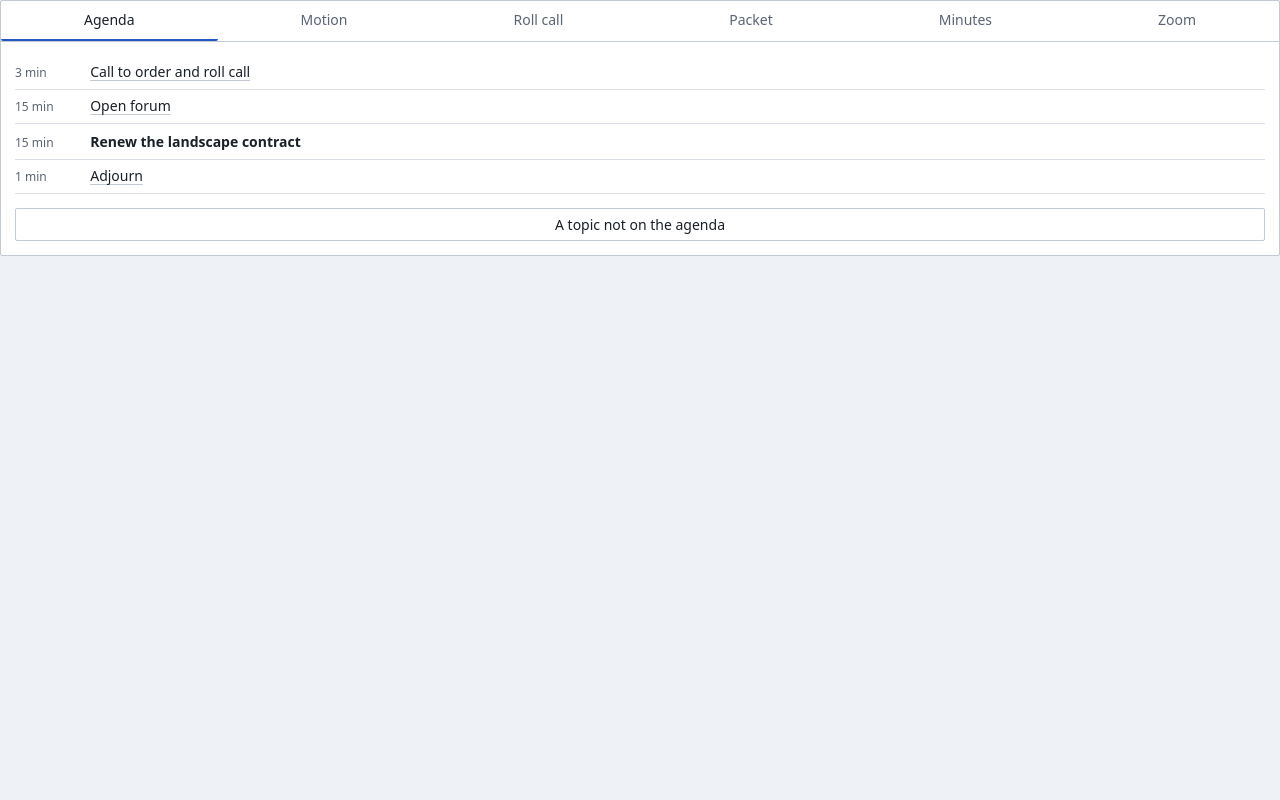
HostPanel › drafts the minutes from the log for the secretary, and shows roster not synced in the Zoom tab
Step 1. Click the tab "Minutes" → (965, 21), box [856,1,1075,41]
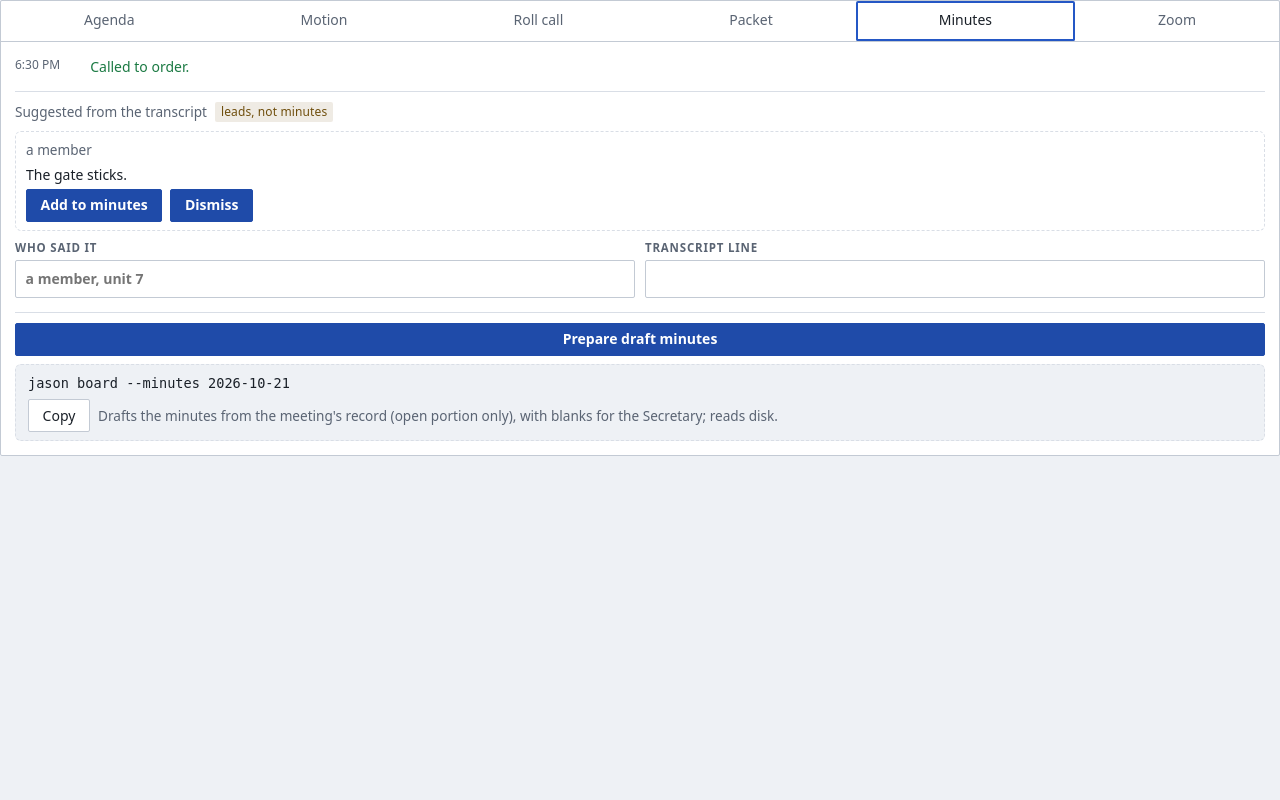
expect the text "Called to order." is shown: met, box [90,57,189,76]
expect the text "The gate sticks." is shown: met, box [26,165,127,184]
Step 2. Click the button "Prepare draft minutes" → (640, 339), box [15,323,1265,356]
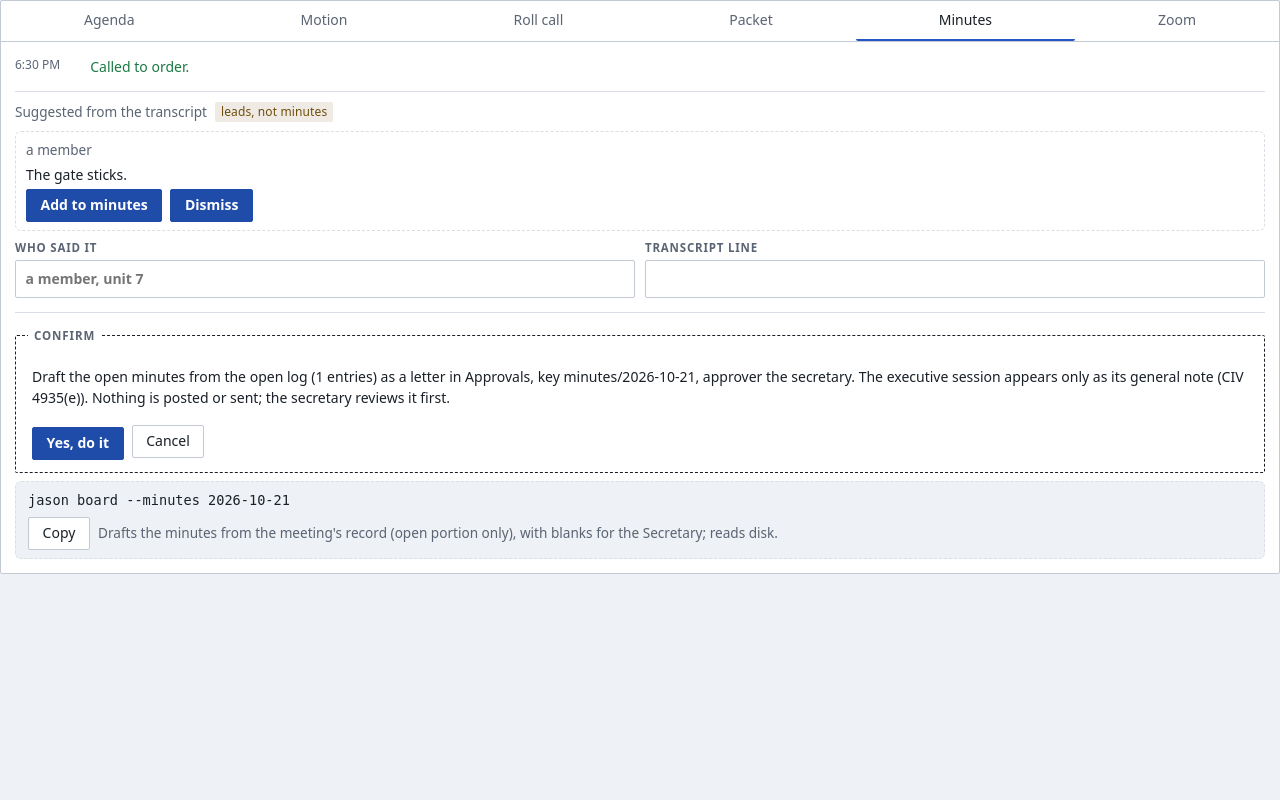
expect the element "Confirm" shows "key minutes/2026-10-21, approver the secretary": met, box [15,335,1265,473]
Step 3. Click the button "Yes, do it" → (78, 443), box [32,427,124,460]
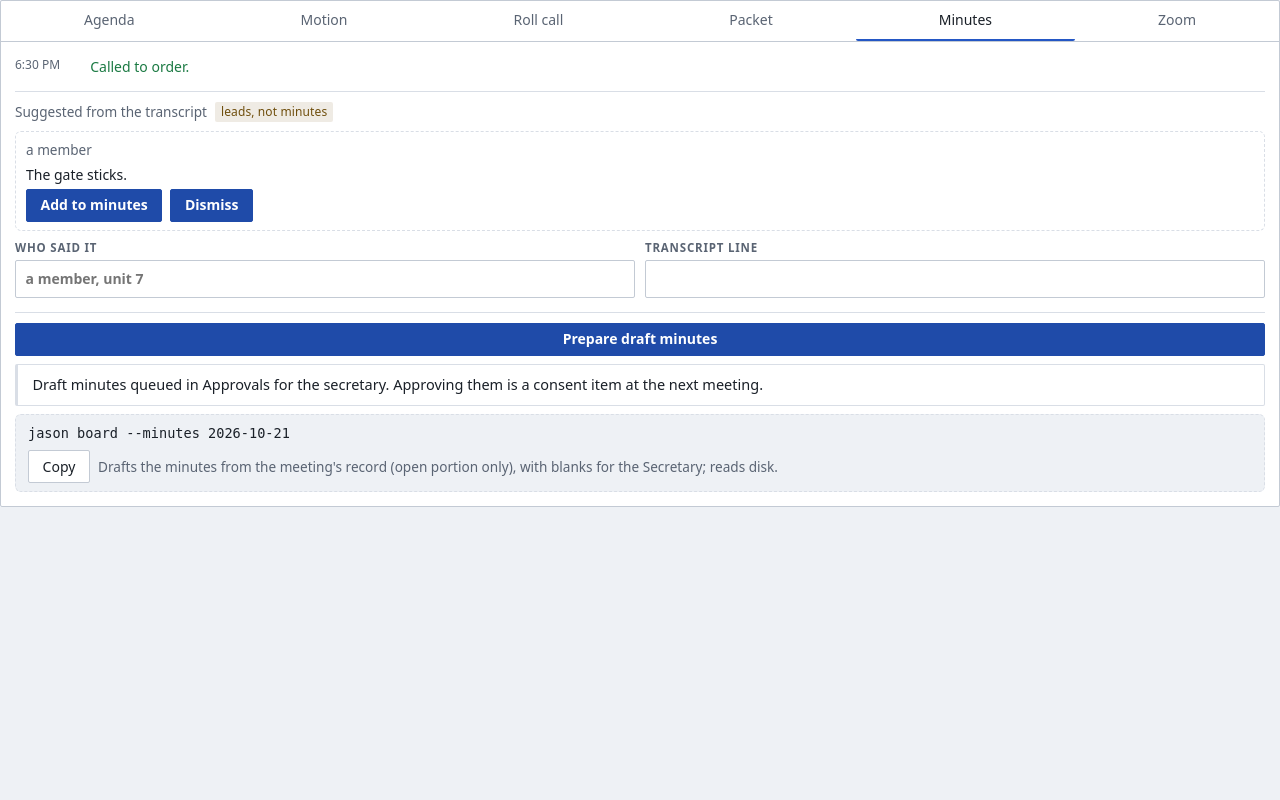
expect the text "queued in Approvals for the secretary" is shown: met, box [32,374,763,394]
Step 4. Click the tab "Zoom" → (1177, 21), box [1075,1,1279,41]
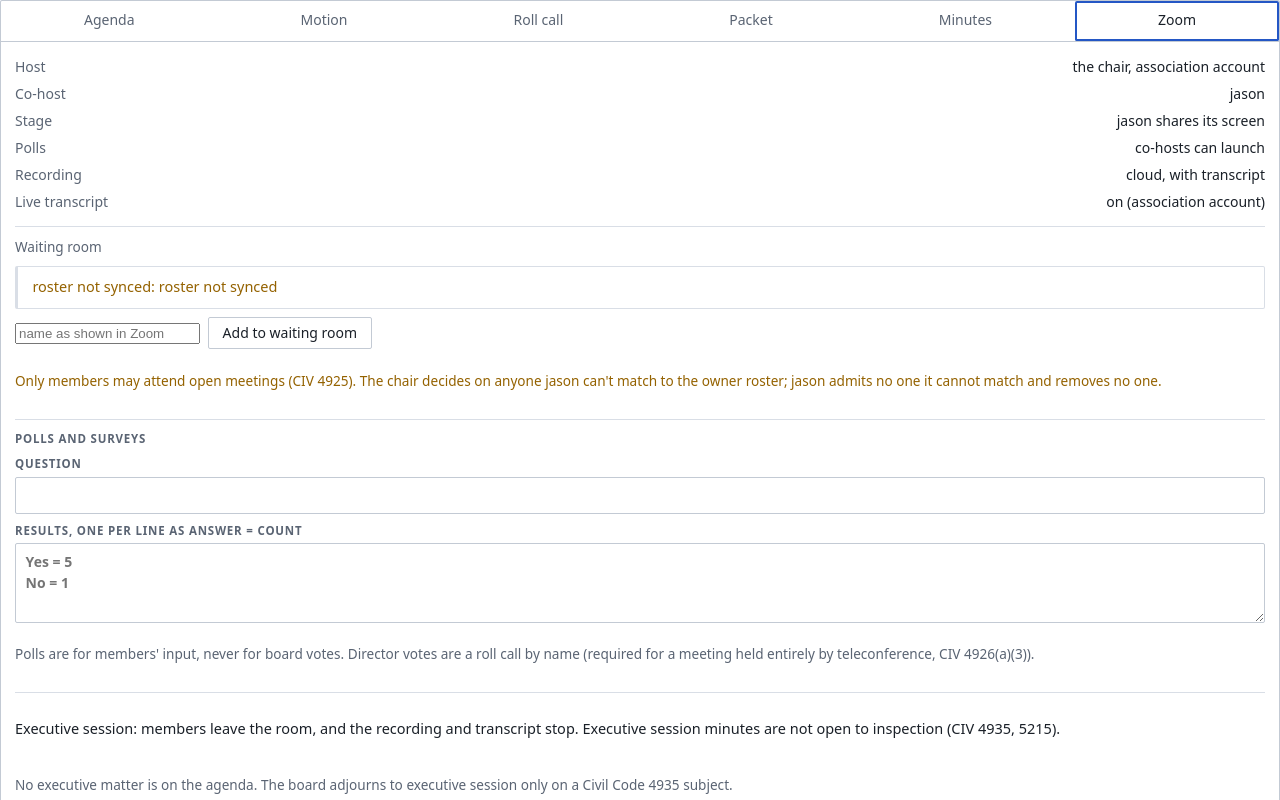
expect the text "roster not synced: roster not synced" is shown: met, box [15,266,1265,308]
expect the text "Polls are for members' input, never for board votes. Director votes are a roll call by name (required for a meeting held" is shown: met, box [15,644,1034,663]
expect the text "No executive matter is on the agenda" is shown: met, box [15,776,733,794]
